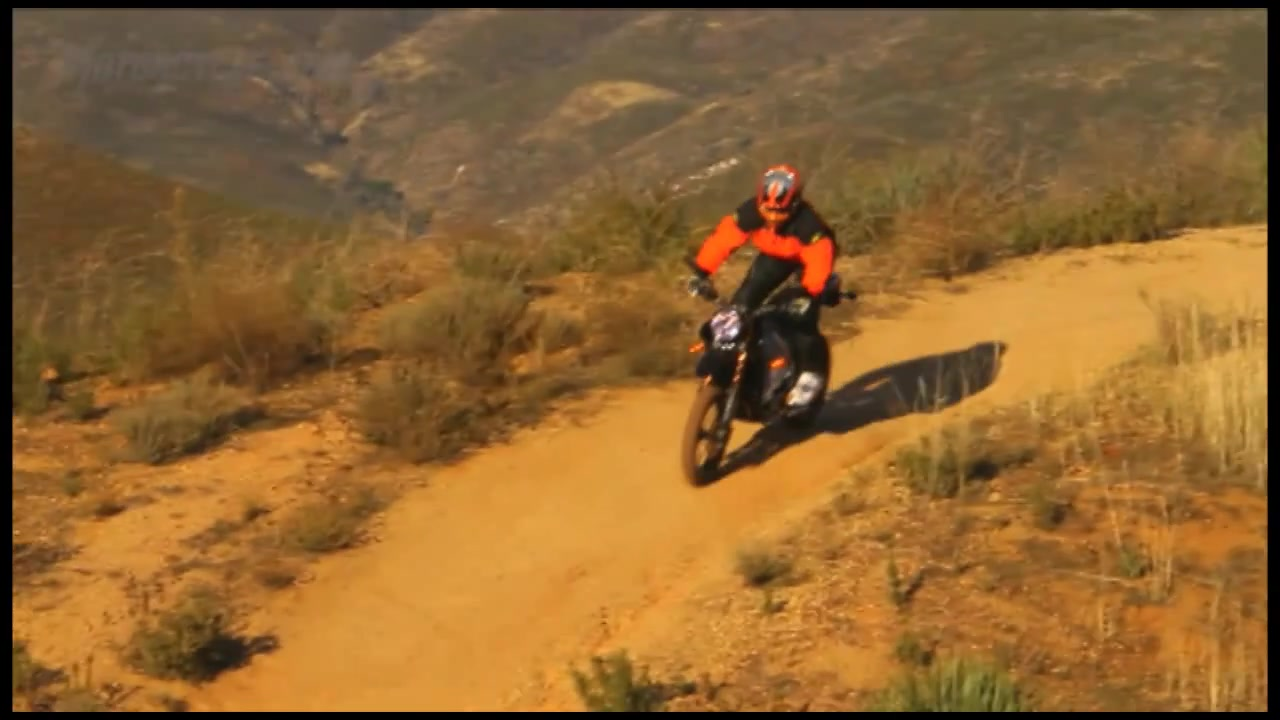motorbike: (679, 277, 834, 490)
